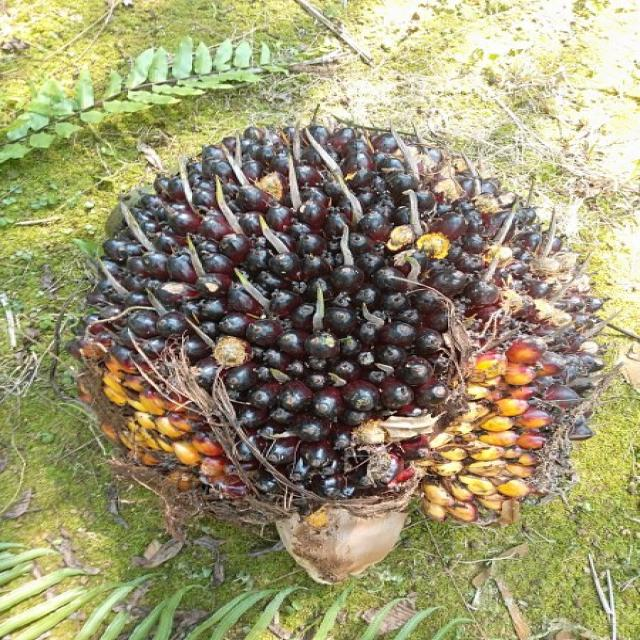fraksi 00: (89, 123, 591, 526)
